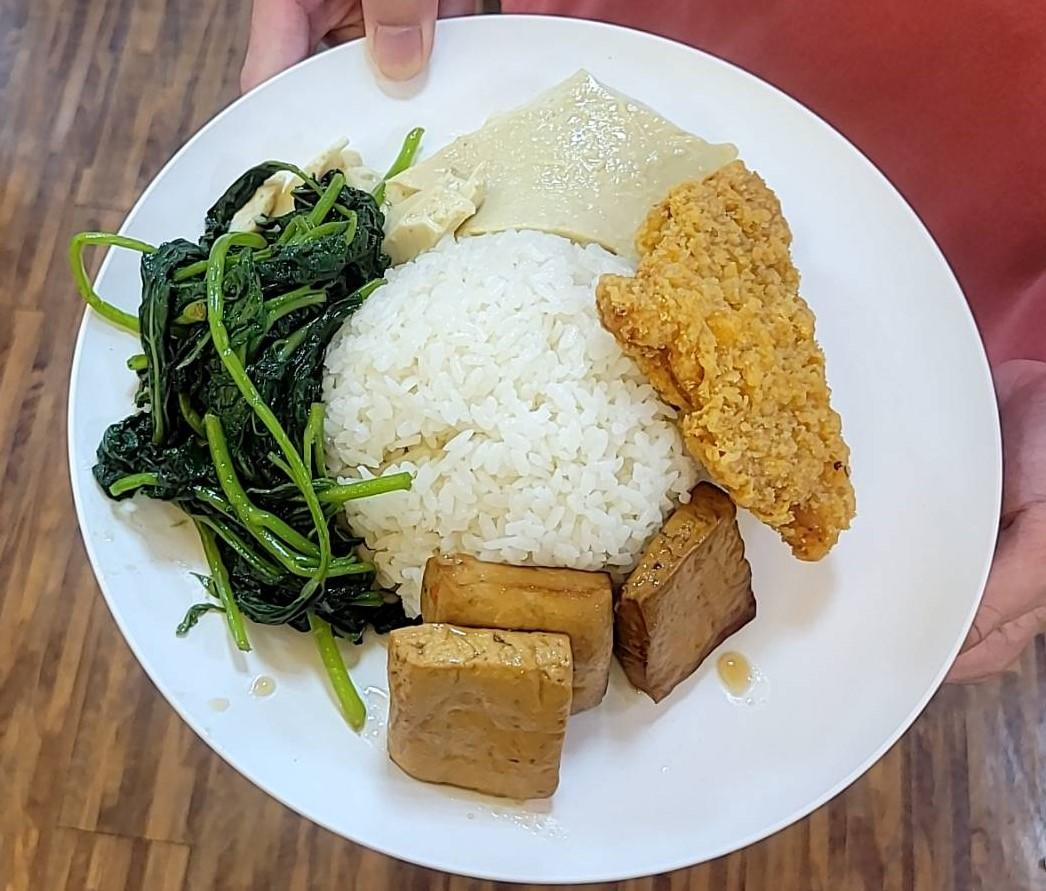big fried chicken leg: (56, 14, 1019, 885)
big herbal chicken leg: (331, 232, 699, 613)
braised fish fillet: (93, 140, 416, 662), (365, 486, 758, 816), (376, 68, 746, 255)
braised pork: (594, 168, 885, 558)
